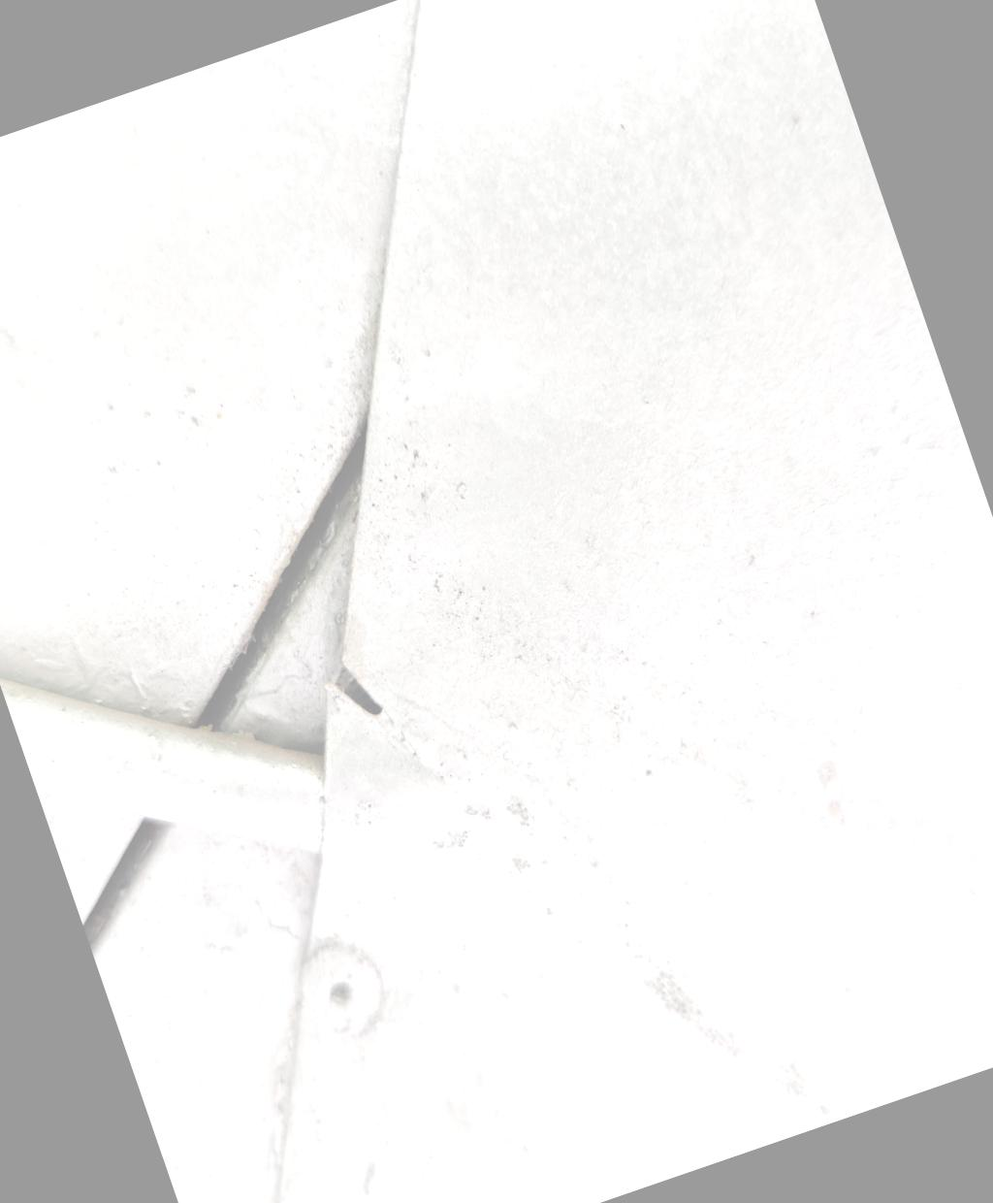crack: (286, 618, 427, 768)
